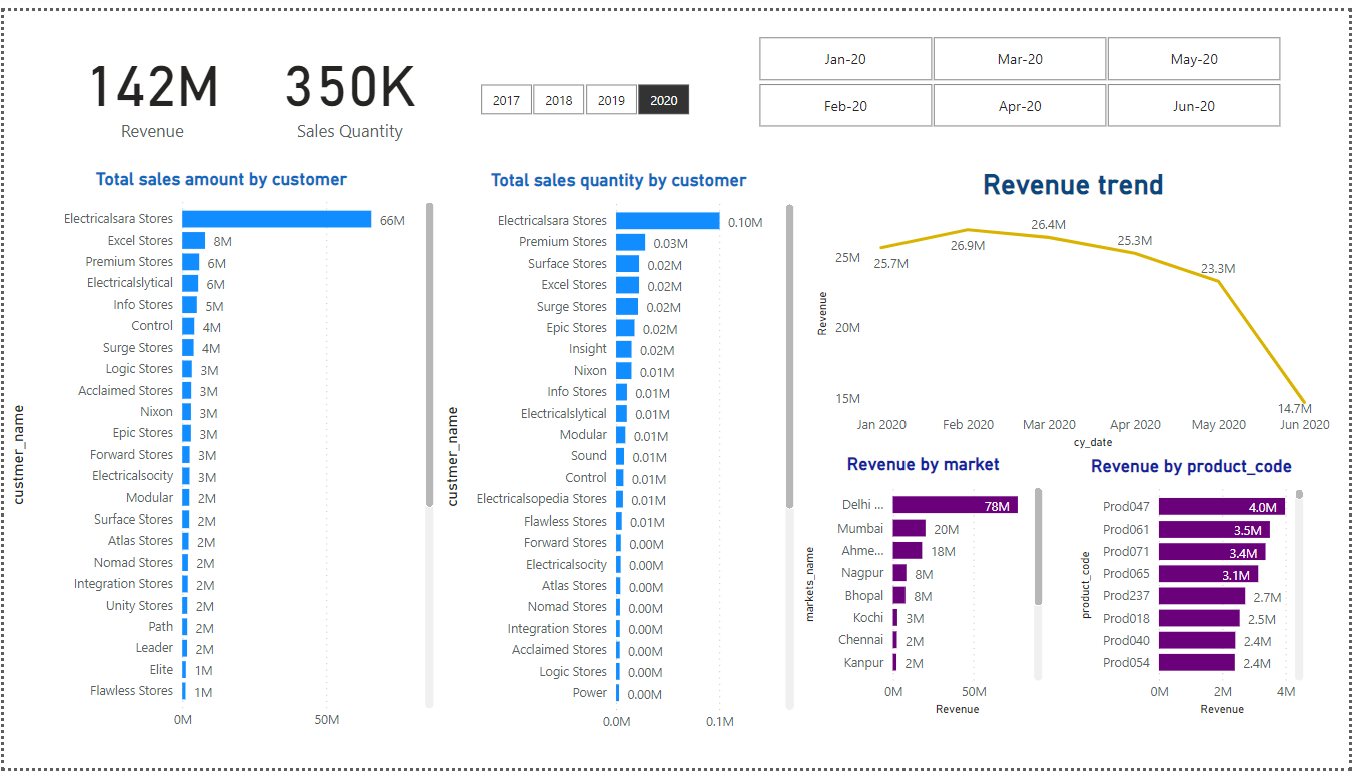

The dashboard page shown, as its layout file describes it:
{"tool":"powerbi","page":{"name":"Page 1","canvas":[1280,720],"ordinal":0},"visuals":[{"type":"card","fields":{"Values":["BaseMeasures.total_sales_qty"]},"box":[245.7,18.6,168.6,114.3],"z":0},{"type":"barChart","title":"Total sales amount by customer","fields":{"Y":["BaseMeasures.total_sales_amount"],"Category":["sales customers.custmer_name"]},"box":[0,150,414,542],"z":2000},{"type":"barChart","title":"Total sales quantity by customer","fields":{"Y":["BaseMeasures.total_sales_qty"],"Category":["sales customers.custmer_name"]},"box":[414,152,344,542],"z":3000},{"type":"slicer","fields":{"Values":["sales date.year"]},"box":[428,64,248,42],"z":3001},{"type":"slicer","fields":{"Values":["sales date.cy_date"]},"box":[693.3,18.3,545,98.3],"z":3002},{"type":"barChart","title":"Revenue by market","fields":{"Y":["BaseMeasures.Revenue"],"Category":["sales markets.markets_name"]},"box":[756.7,421.7,236.7,253.3],"z":3004},{"type":"card","fields":{"Values":["BaseMeasures.Revenue"]},"box":[18.6,0,245.7,150],"z":3005},{"type":"barChart","fields":{"Y":["BaseMeasures.Revenue"],"Category":["sales products.product_code"]},"box":[1018.3,423.3,223.3,251.7],"z":3006},{"type":"lineChart","title":"Revenue trend","fields":{"Y":["BaseMeasures.Revenue"],"Category":["sales date.cy_date"]},"box":[768.3,150,498.3,271.7],"z":3007}]}

Visuals, with their boxes in screenshot pixels (x1, y1, x2, y2), scaled from the page's 1280x720 canvas onto the 1352x771 screenshot:
card - BaseMeasures.total_sales_qty: 260 20 438 142
"Total sales amount by customer" barChart: 0 161 437 741
"Total sales quantity by customer" barChart: 437 163 801 743
slicer - sales date.year: 452 69 714 114
slicer - sales date.cy_date: 732 20 1308 125
"Revenue by market" barChart: 799 452 1049 723
card - BaseMeasures.Revenue: 20 0 279 161
barChart - BaseMeasures.Revenue x sales products.product_code: 1076 453 1311 723
"Revenue trend" lineChart: 812 161 1338 452
